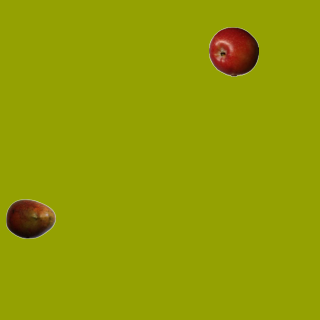Apple Braeburn: (208, 26, 258, 76)
Mango Red: (5, 193, 55, 243)
